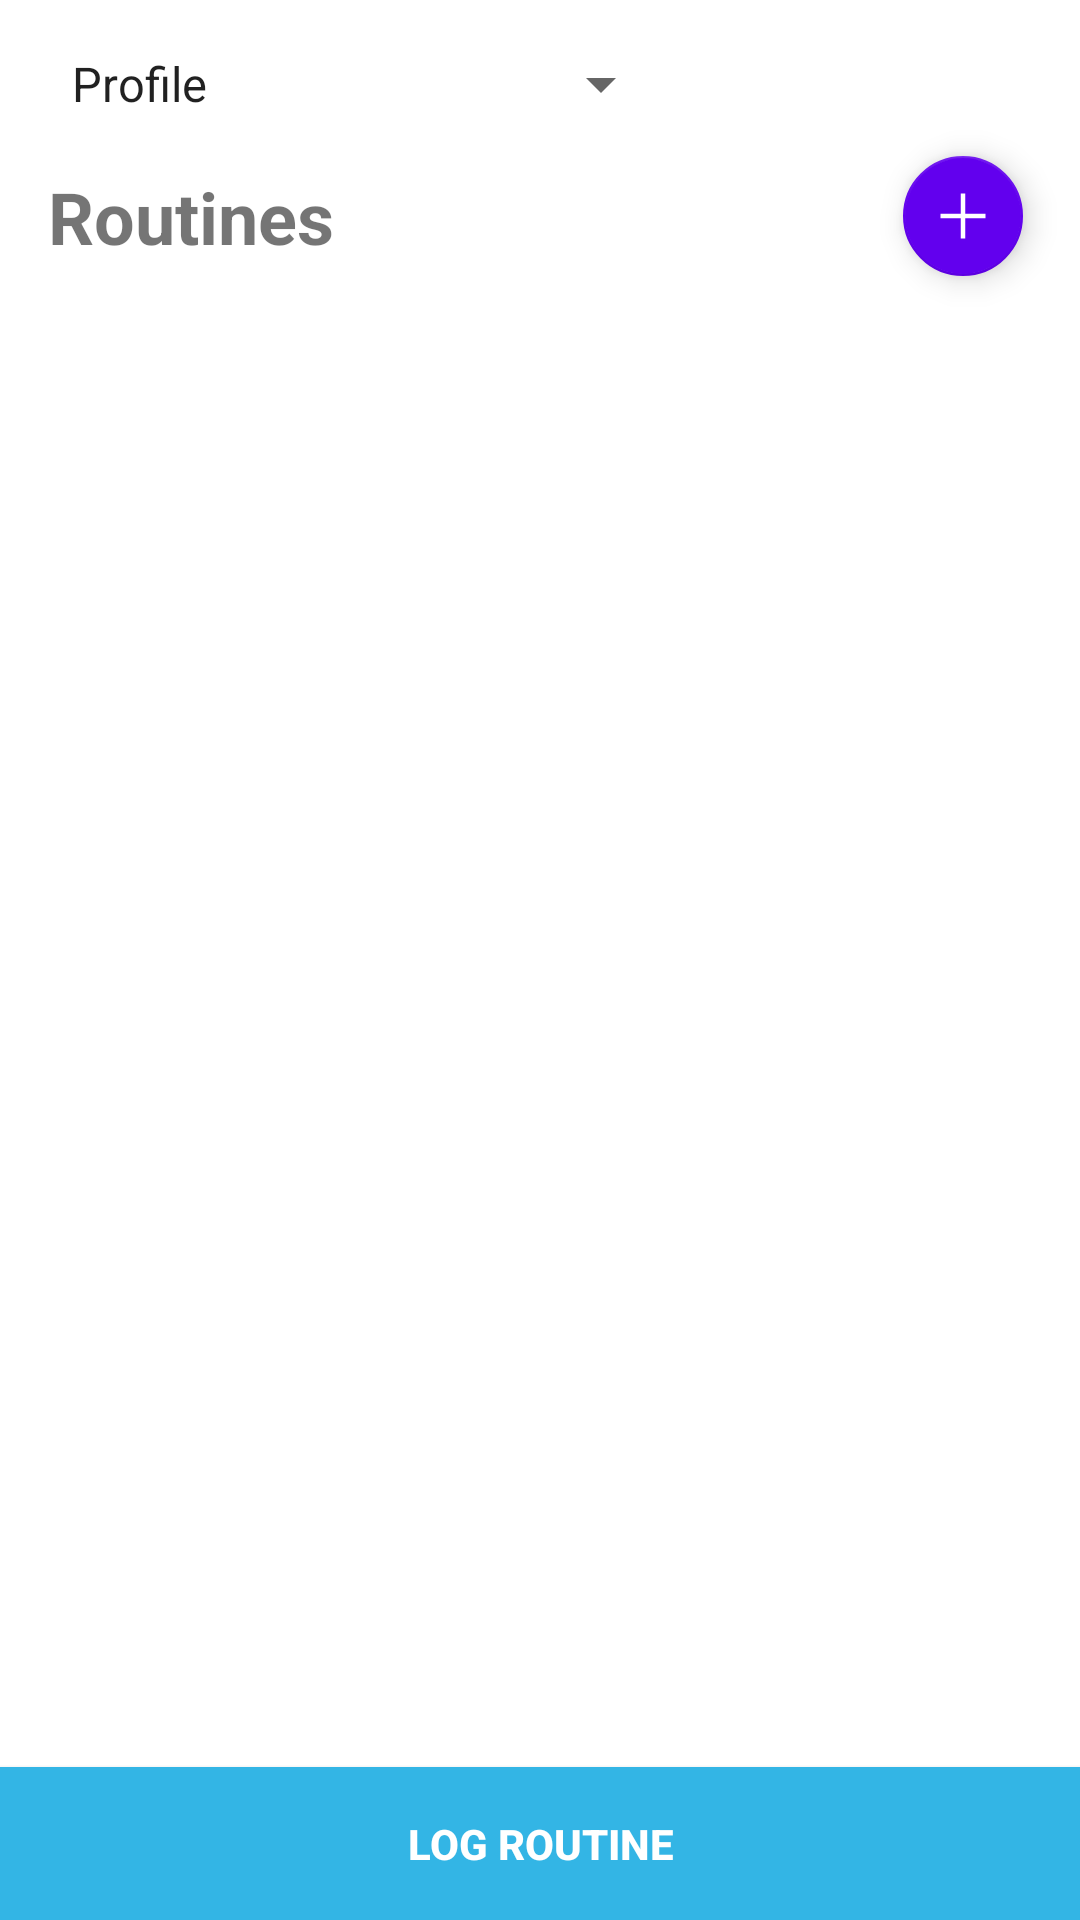

Where icons sit on this 1080w x 1920h app screen, as (x1, y1, x2, y2):
plus: (903, 156, 1025, 277)
